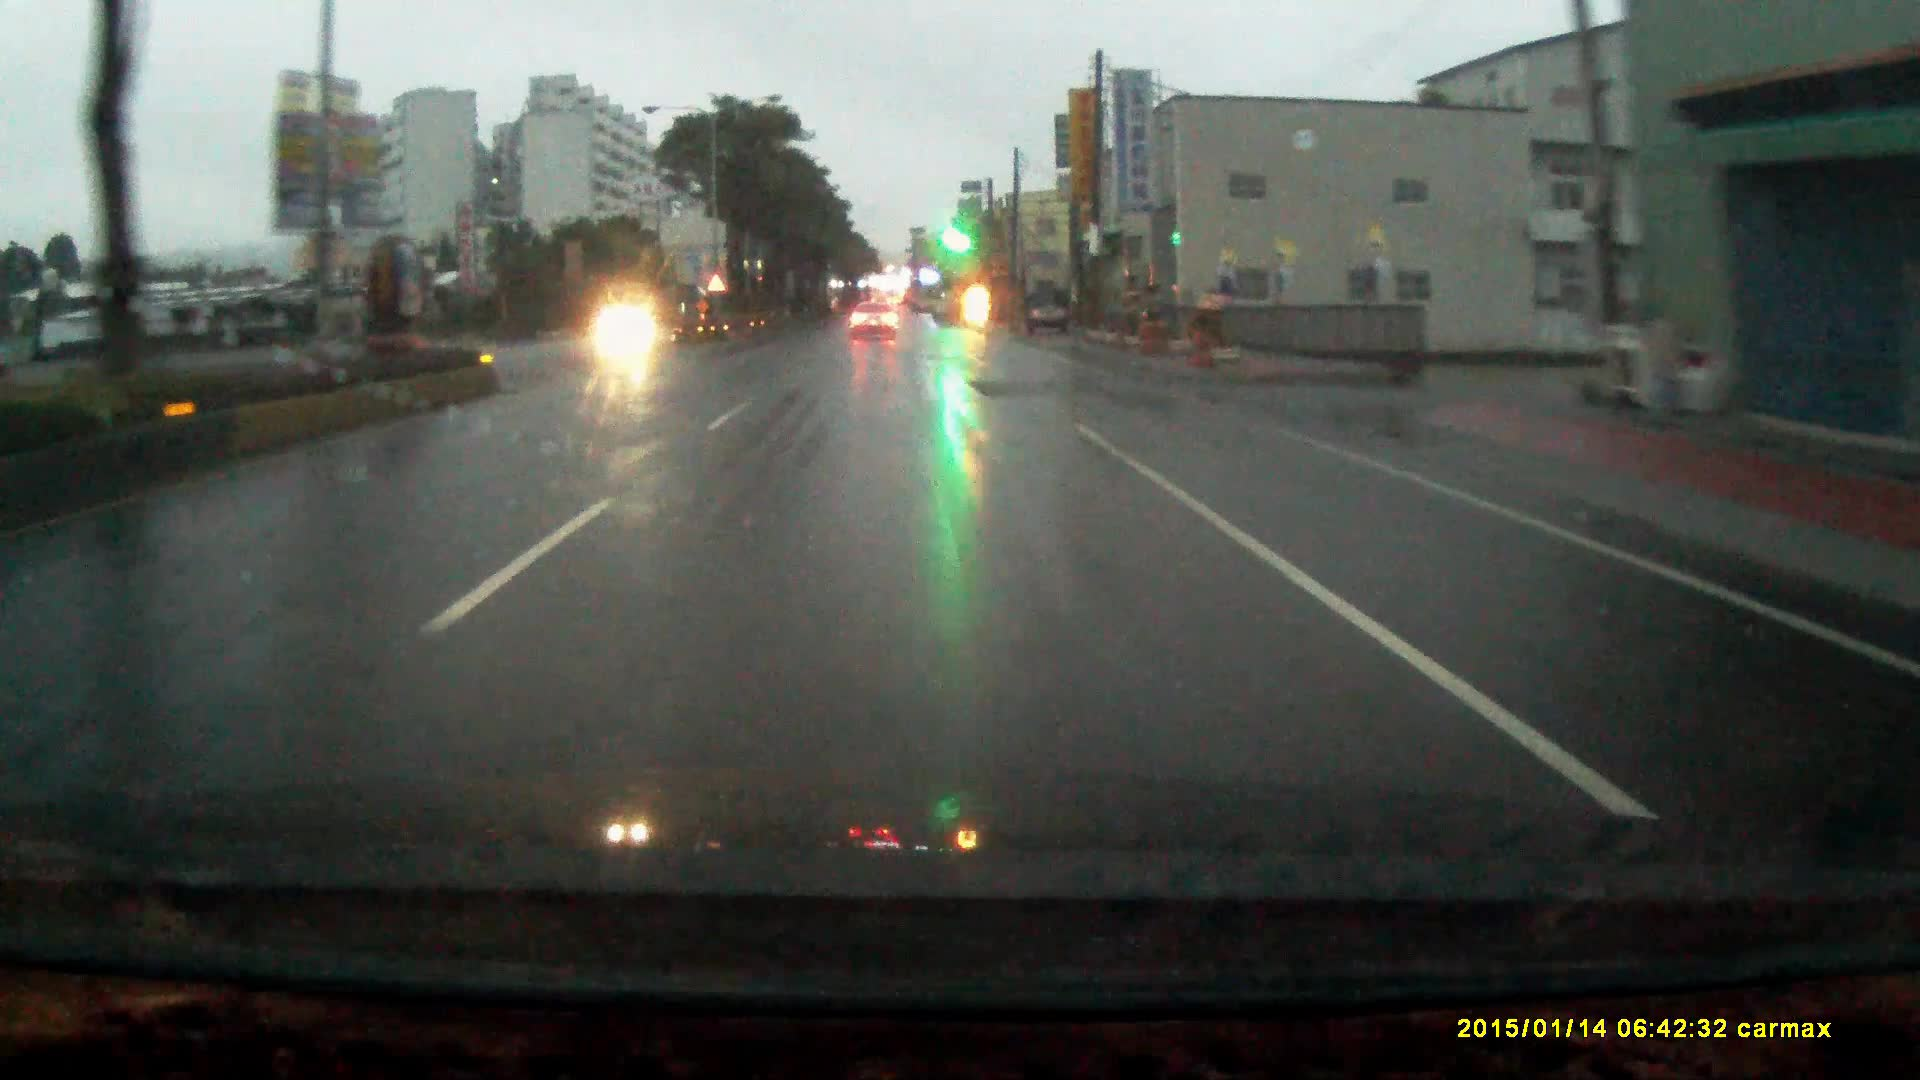vehicle: (847, 297, 898, 335), (1027, 287, 1068, 334)
